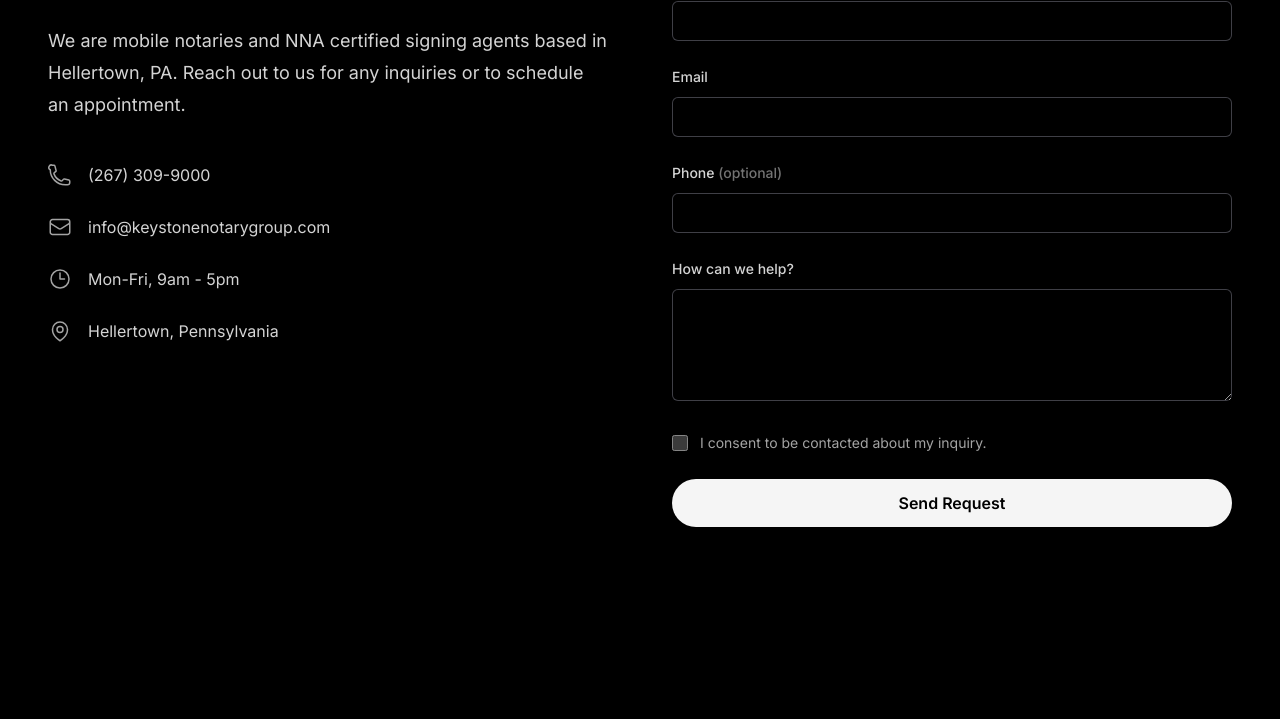
Contact form › shows validation errors on empty submit
(page scrolled)
Click the button "Send Request".
click(952, 503)  # box [672,479,1232,527]
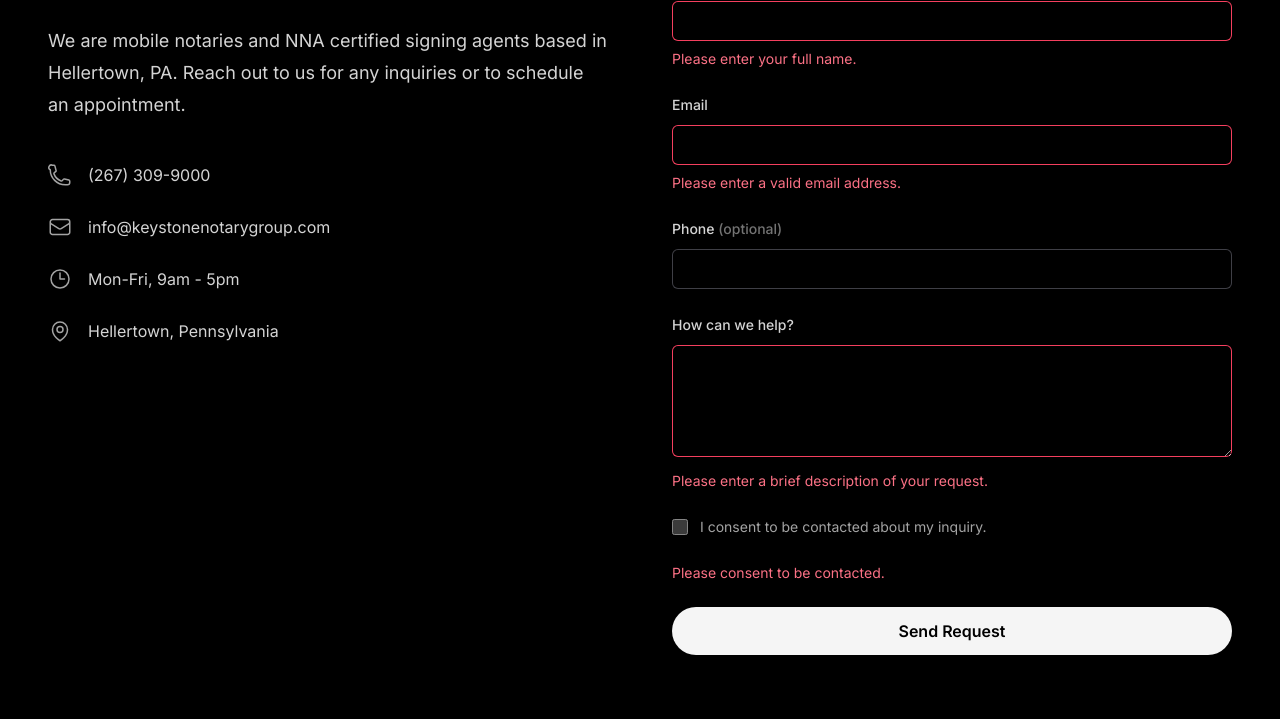
Expected: the text "Please enter your full name." is shown, [672,50,856,67]
Expected: the text "Please enter a valid email address." is shown, [672,174,901,191]
Expected: the text "Please enter a brief description of your request." is shown, [672,472,988,489]
